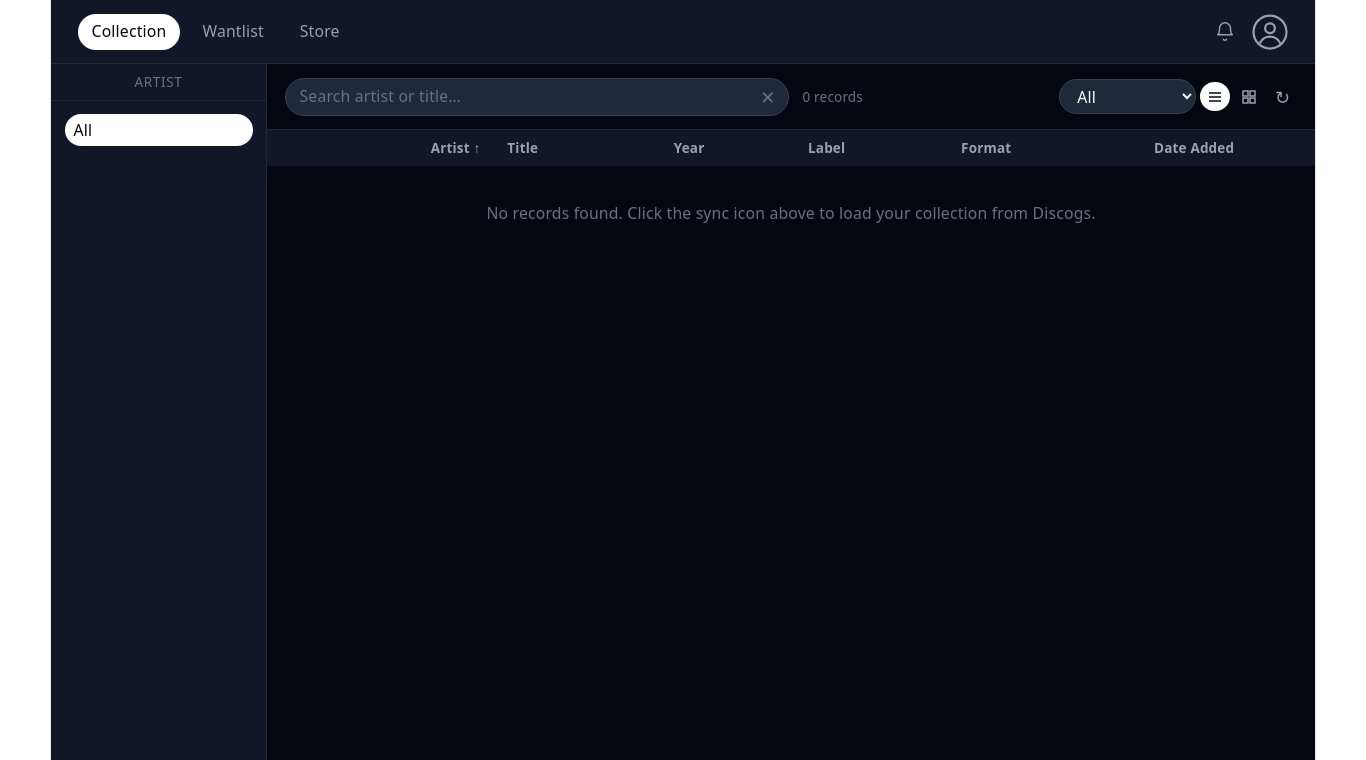
it: stopping a recommendation run from the profile page › says something when a start is refused and the reason has already gone
Step 1. Click the button named "profile" → (1270,32), box [1252,14,1288,50]
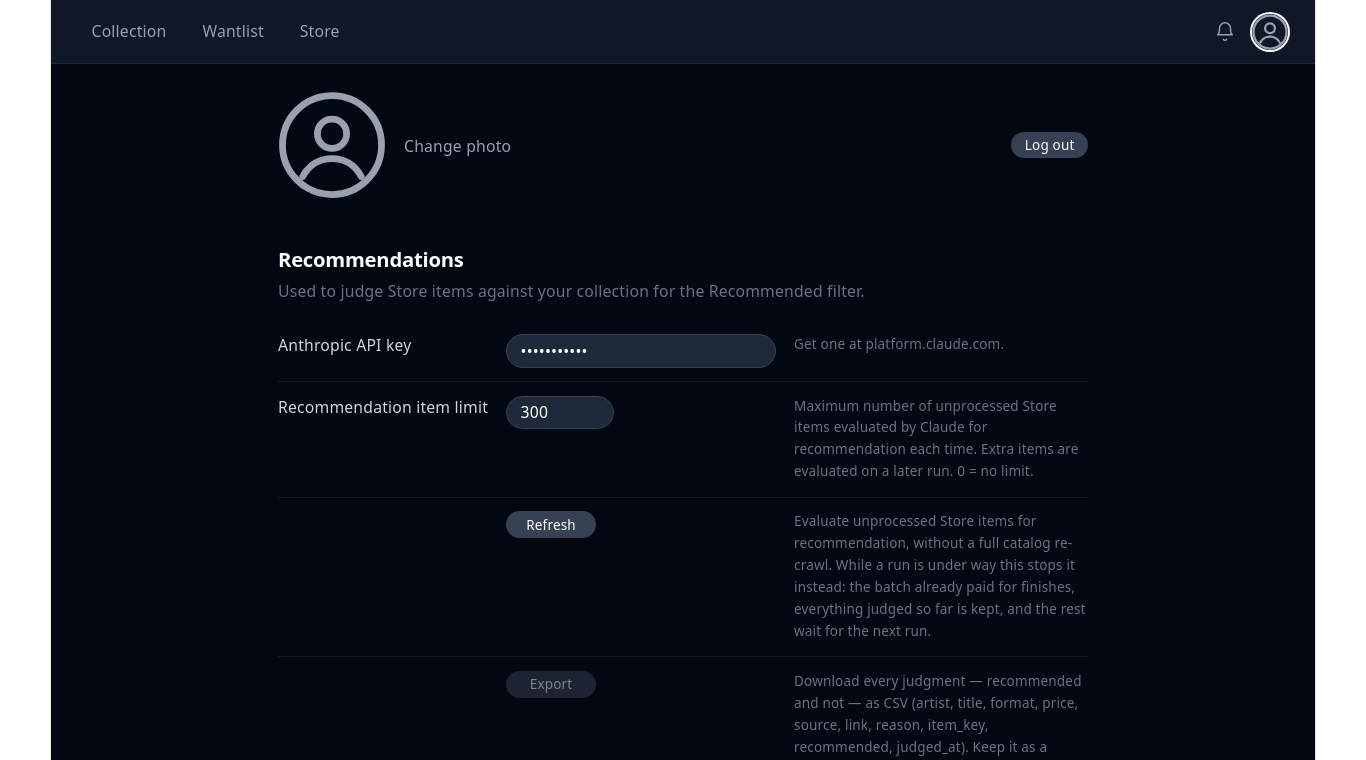
Result: the button "Refresh" is shown
Step 2. Click the button "Refresh" → (551,525), box [506,511,596,538]
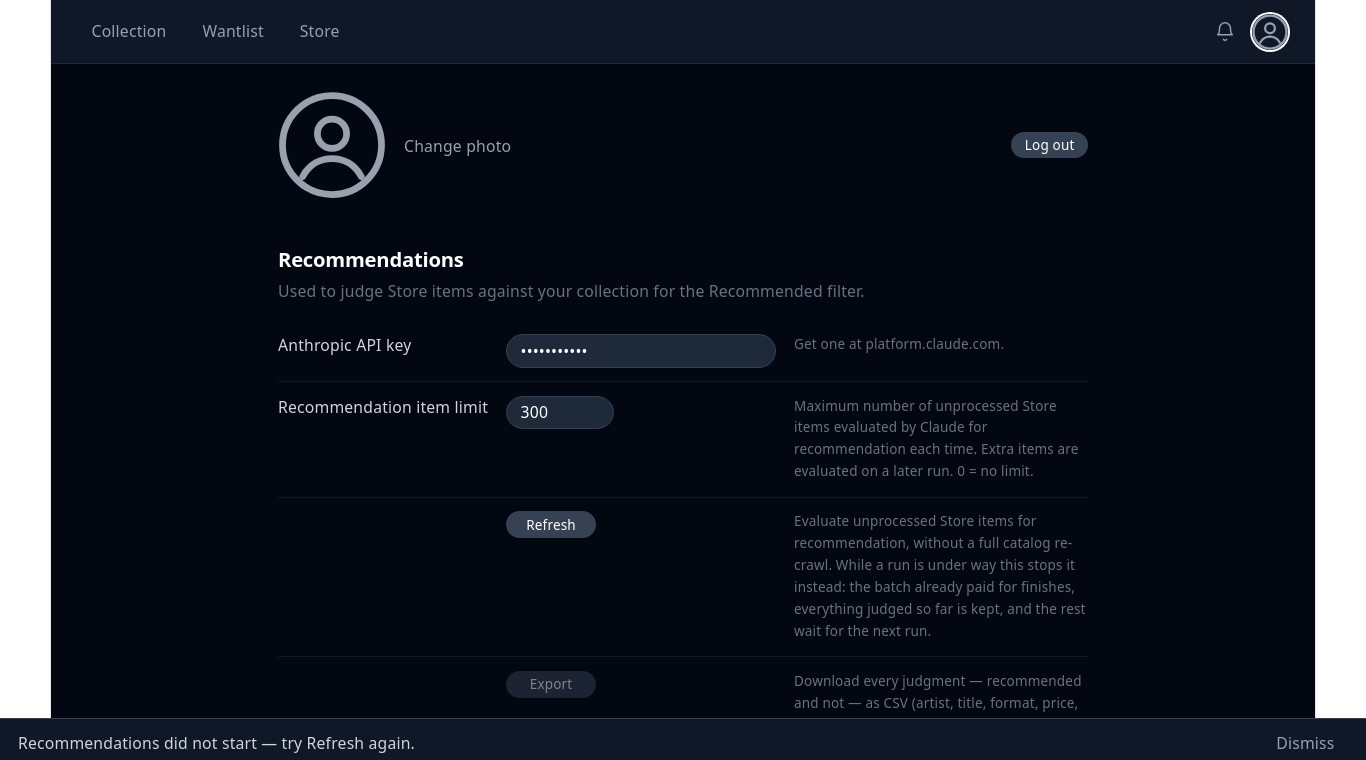
Result: the text "Recommendations did not start — try Refresh again." is shown at [18,732,415,754]
